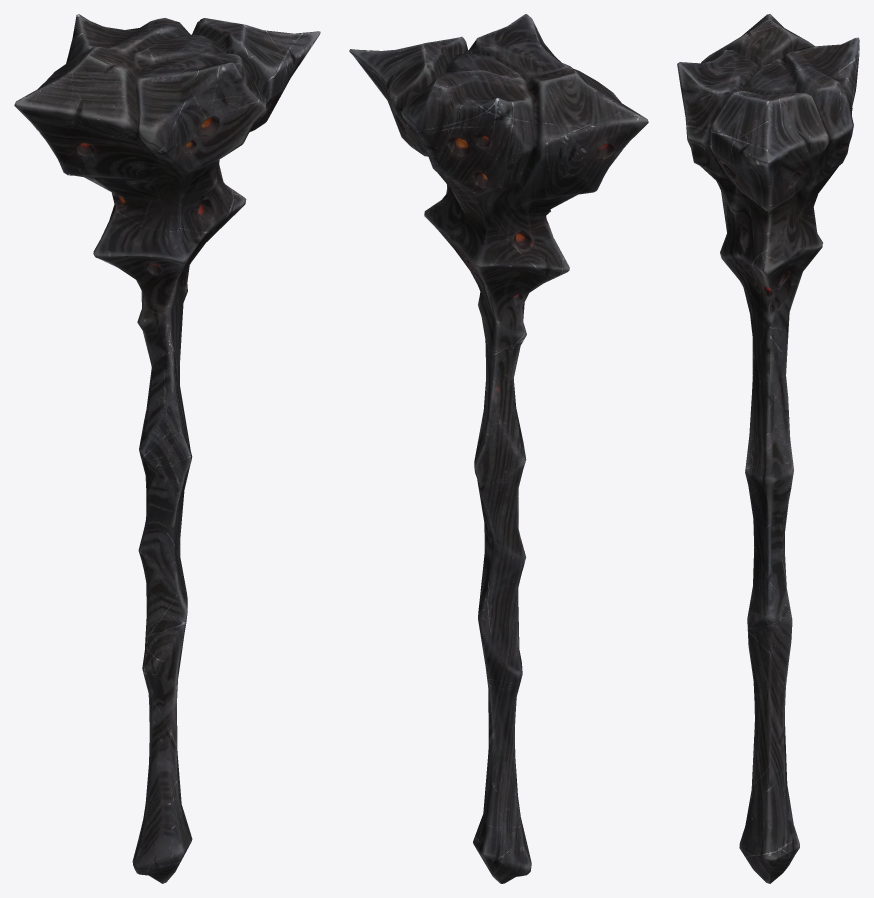
3 renders of one model, left to right at view 1: azimuth 30°, elevation 25°; view 2: azimuth 150°, elevation 25°; view 3: azimuth 270°, elevation 25°, orthographic. The views are drawn at different scales.
Visible parts, largest first — view 1: SM_TzhaarKetOm_2H_01_LOD0; view 2: SM_TzhaarKetOm_2H_01_LOD0; view 3: SM_TzhaarKetOm_2H_01_LOD0.
Boxes of the visible parts, x1=… form: SM_TzhaarKetOm_2H_01_LOD0: x1=14, y1=14, x2=320, y2=883; SM_TzhaarKetOm_2H_01_LOD0: x1=349, y1=14, x2=648, y2=883; SM_TzhaarKetOm_2H_01_LOD0: x1=677, y1=14, x2=859, y2=883.
Bounding box in the file's own units: 0.525 × 1.39 × 0.2779.
Materials: 1 (1 with a texture image).
